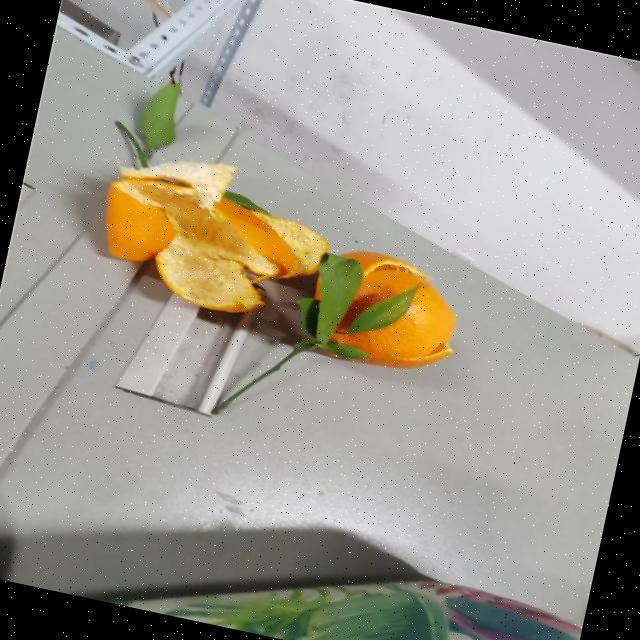orange-peel: (82, 144, 481, 382), (300, 238, 470, 380)
